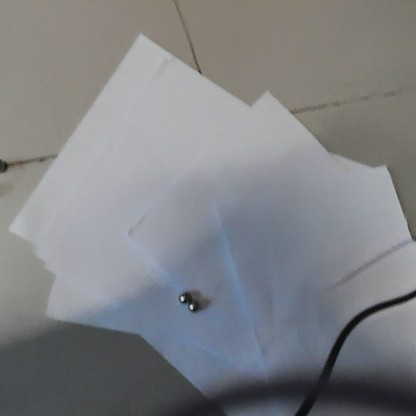ironball: (175, 286, 191, 305), (184, 296, 200, 314)
